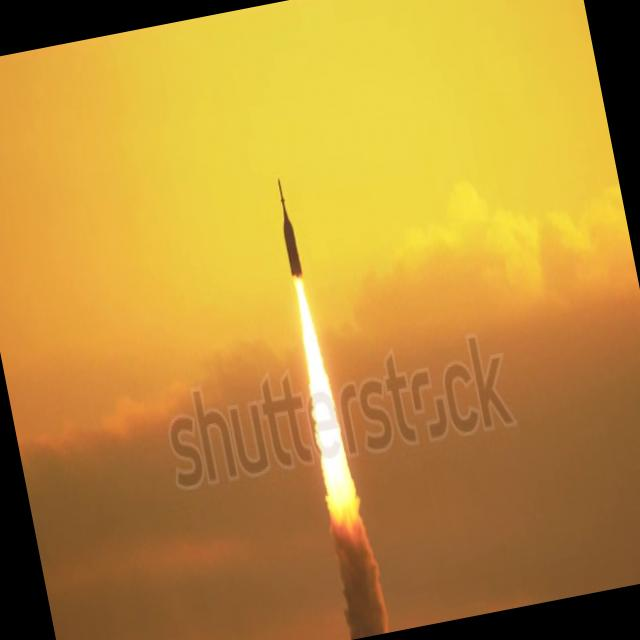rocket: (270, 168, 338, 424)
